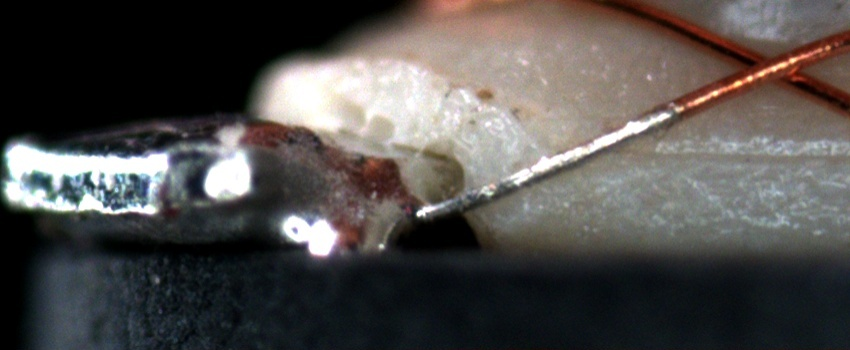CL: (717, 37, 829, 93)
DL: (605, 125, 850, 178)
TS: (412, 105, 679, 218)
